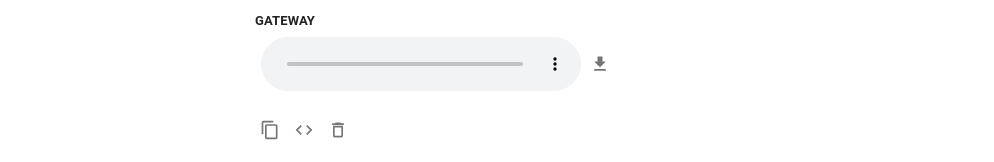
deleting the audio of a stored speech answer › deletes once when the confirm is accepted, and closes the confirm
Click the button named "Audio löschen". click: {"x": 338, "y": 130}
box: [323,114,353,144]
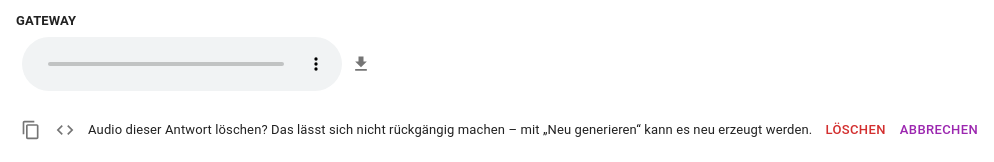
Click the button "Löschen". click: {"x": 856, "y": 130}
box: [820,114,891,145]
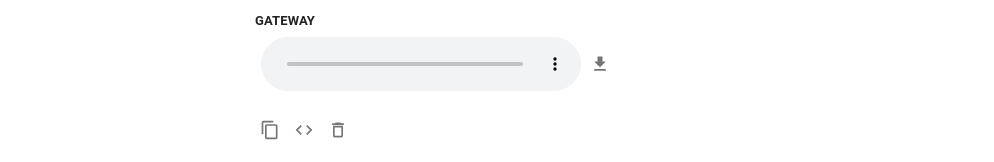
Expected: the text "Audio dieser Antwort löschen? Das lässt sich nicht rückgängig machen – mit „Neu generieren“ kann es neu erzeugt werden." is gone
Expected: the text "löschen" is gone
